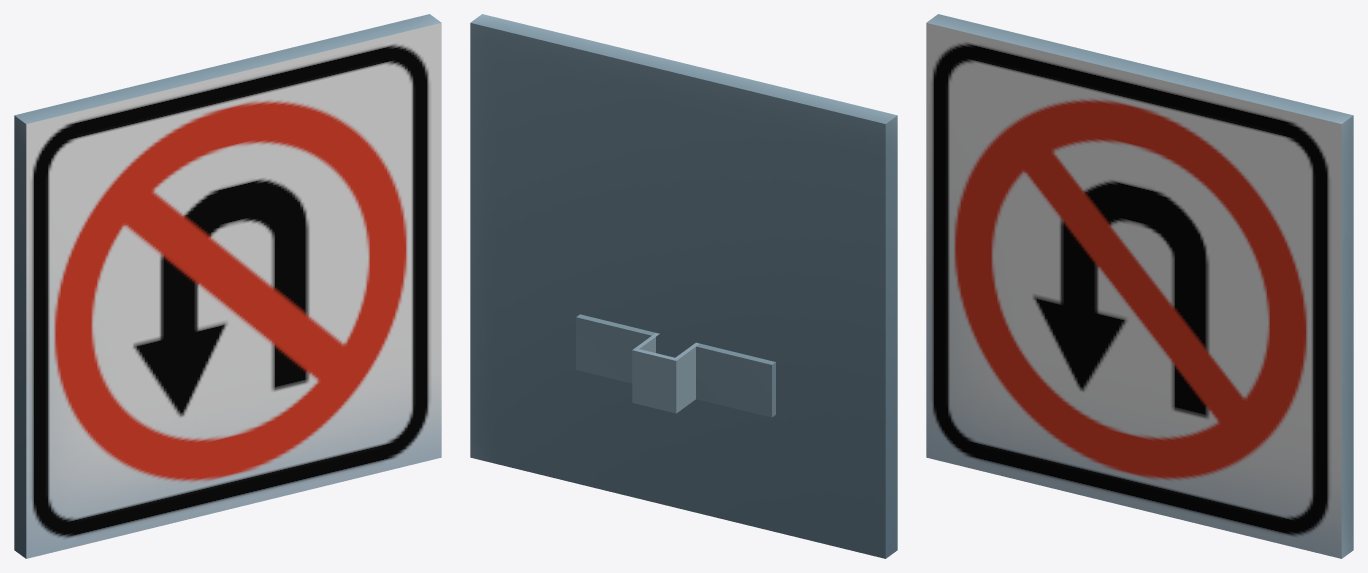
The model's file is Sign16.fbx.
The picture shows the model from 3 angles, left to right: view 1: azimuth 30°, elevation 25°; view 2: azimuth 150°, elevation 25°; view 3: azimuth 330°, elevation 25°; orthographic projection.
Visible parts, largest first — view 1: Sign16; view 2: Sign16; view 3: Sign16.
Boxes of the visible parts, x1,y1,x2,y2 form: Sign16: (14, 14, 441, 558); Sign16: (470, 14, 897, 558); Sign16: (926, 14, 1353, 558).
Bounding box in the file's own units: 1 × 0.1489 × 1.
